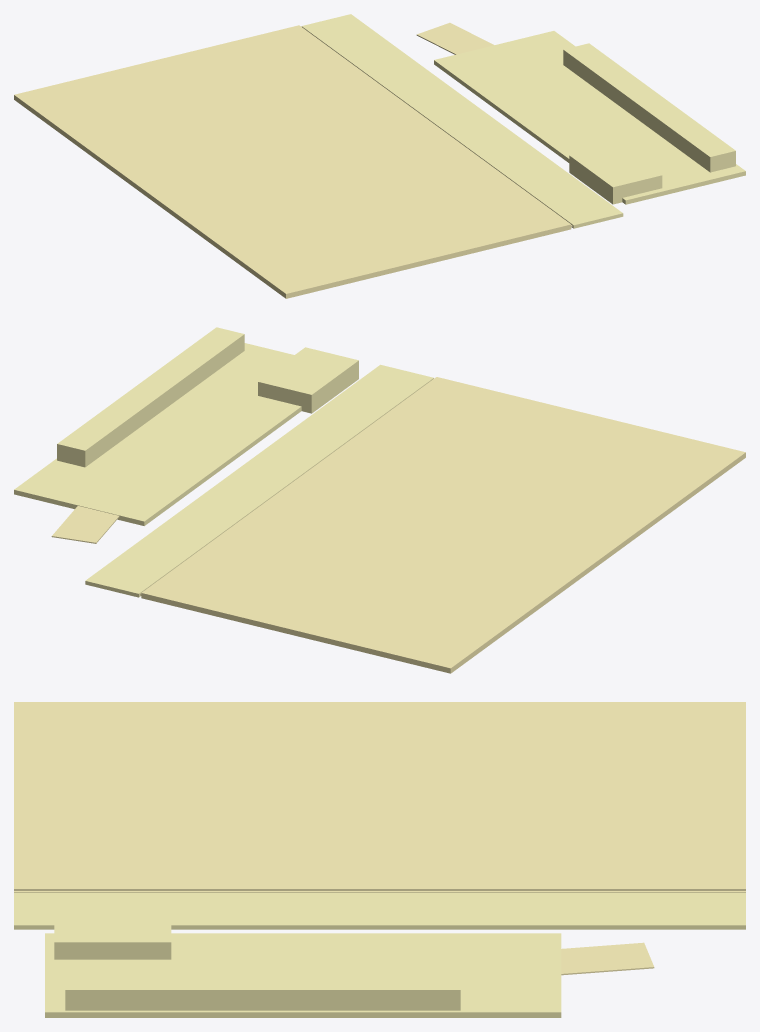
The model's file is road_curb_bulbout_transition.glb.
3 views of the same model, one above another, from view 1: azimuth 30°, elevation 25°; view 2: azimuth 150°, elevation 25°; view 3: azimuth 270°, elevation 25° (orthographic). The views are drawn at different scales.
Parts seen in each view (by area): view 1: travel_lane, bulbout_apron, gutter_strip, curb_return, curb_nose, gutter_repair, apron_patch; view 2: travel_lane, bulbout_apron, gutter_strip, curb_return, curb_nose, apron_patch; view 3: travel_lane, bulbout_apron, gutter_strip, curb_return, curb_nose, gutter_repair, apron_patch, edge_joint.
Part boxes in pixels (box(x1,y1,x2,y2)): travel_lane: box(14, 25, 571, 298); bulbout_apron: box(434, 31, 745, 204); gutter_strip: box(301, 14, 623, 228); curb_return: box(563, 43, 735, 172); curb_nose: box(569, 143, 662, 204); gutter_repair: box(375, 52, 480, 132); apron_patch: box(416, 22, 494, 54); travel_lane: box(141, 377, 745, 673); bulbout_apron: box(14, 343, 301, 525); gutter_strip: box(85, 364, 433, 597); curb_return: box(57, 327, 244, 467); curb_nose: box(258, 347, 358, 413); apron_patch: box(51, 506, 119, 543); travel_lane: box(14, 702, 745, 890); bulbout_apron: box(45, 933, 561, 1017); gutter_strip: box(14, 892, 745, 929); curb_return: box(65, 973, 460, 1010); curb_nose: box(54, 909, 171, 959); gutter_repair: box(346, 896, 611, 924); apron_patch: box(561, 942, 654, 975); edge_joint: box(14, 891, 745, 892).
Size of the model in its own units: 4 by 0.16 by 4.
